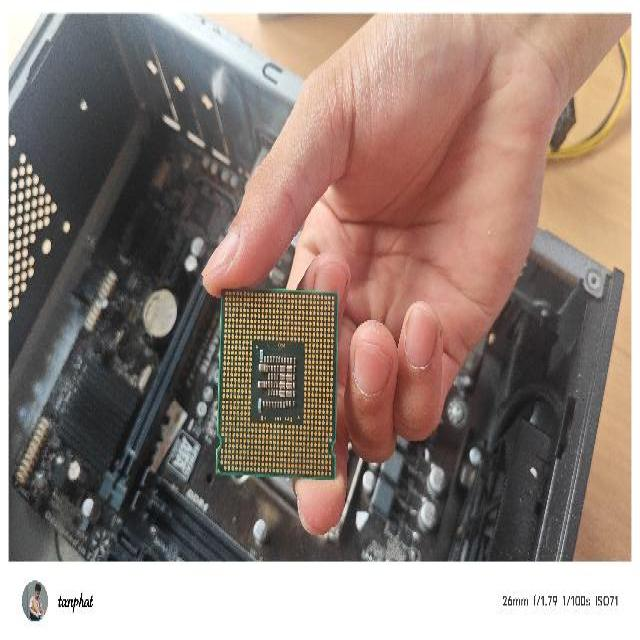CPU: (215, 284, 338, 480)
